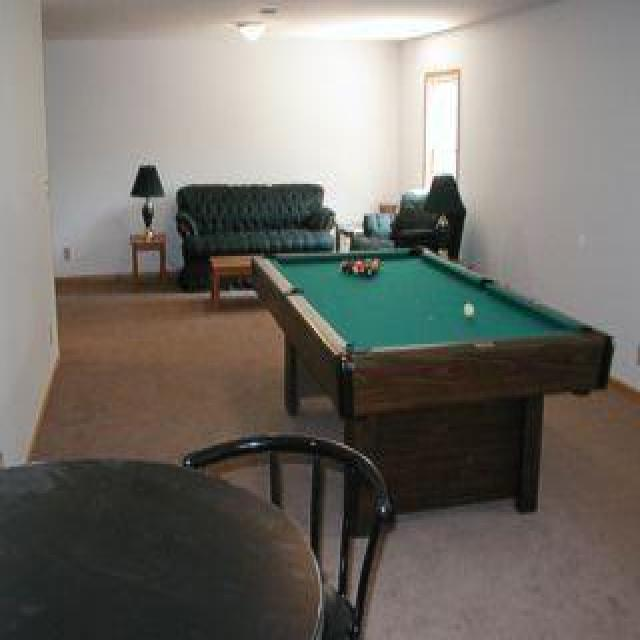chair: (180, 432, 394, 637)
lamps: (128, 163, 164, 240)
rugs: (24, 286, 638, 638)
sofa: (174, 181, 336, 291)
tables: (250, 242, 614, 522), (0, 456, 324, 637)
windows: (422, 67, 460, 189)
